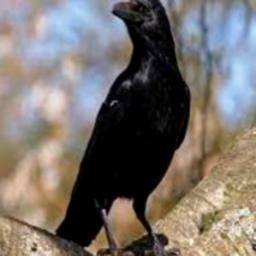Crow: (55, 0, 191, 256)
